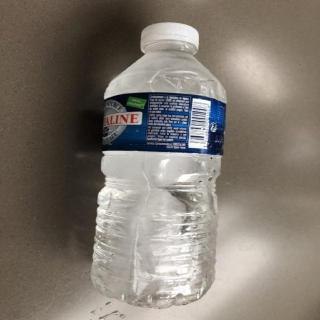Anorganik: (92, 18, 224, 305)
